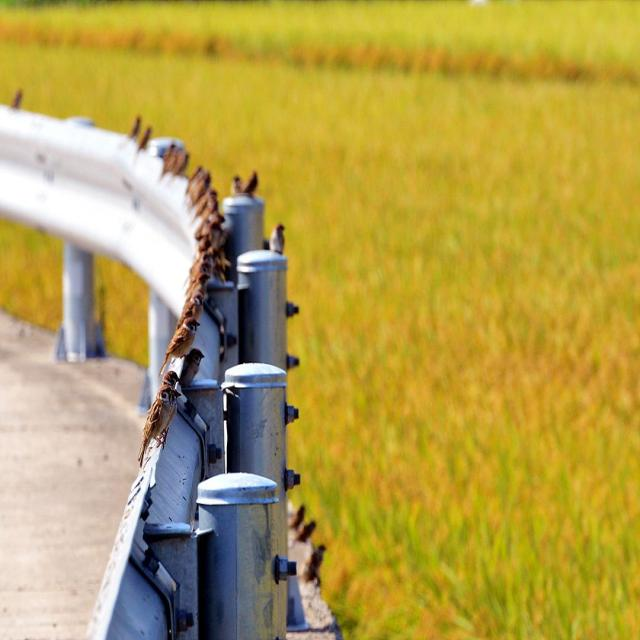bird: (143, 384, 171, 456), (162, 319, 199, 368), (177, 260, 211, 303), (180, 272, 210, 312), (175, 291, 202, 332), (302, 540, 326, 584), (290, 518, 319, 547), (268, 223, 287, 259), (158, 370, 180, 400), (290, 503, 306, 529)
